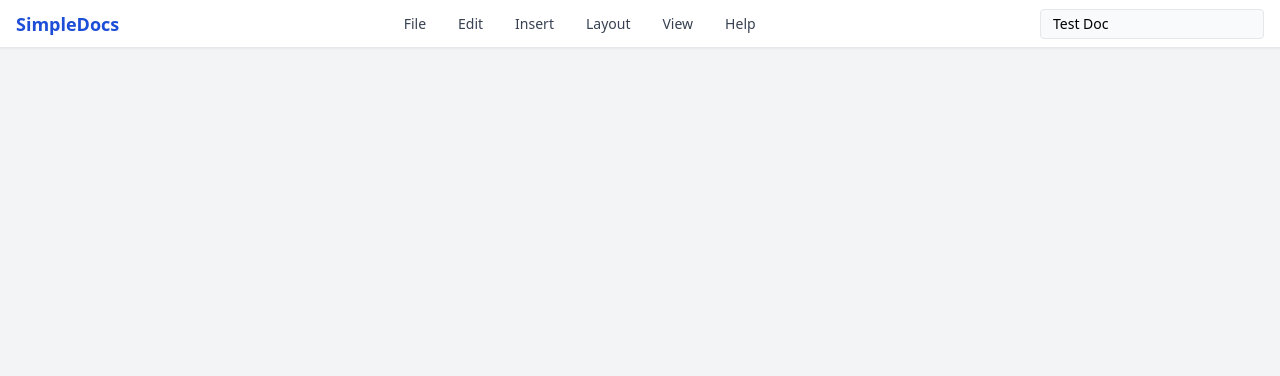
Navbar — menu close behavior › File menu › closes after clicking New
Step 1. Click the button "File" → (415, 24), box [396,10,434,38]
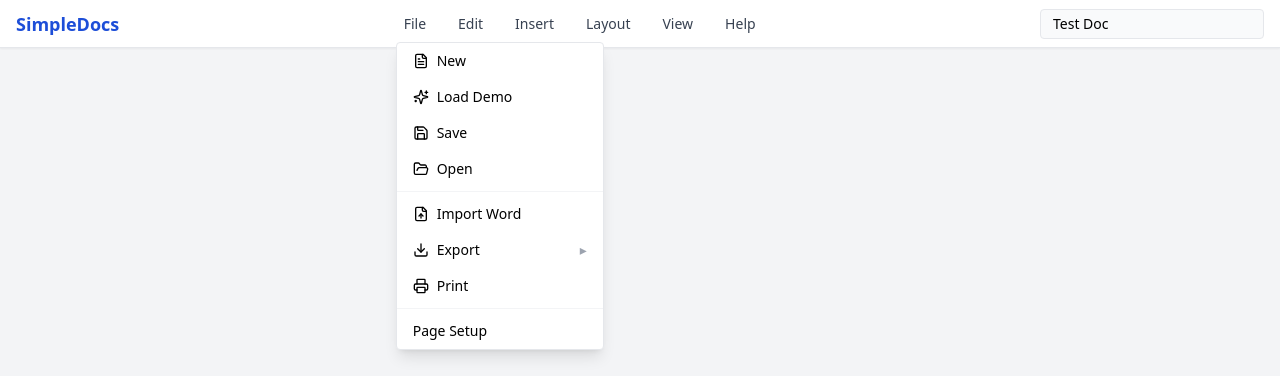
Expected: the button "New" is shown
Step 2. Click the button "New" → (500, 60), box [397,42,603,78]
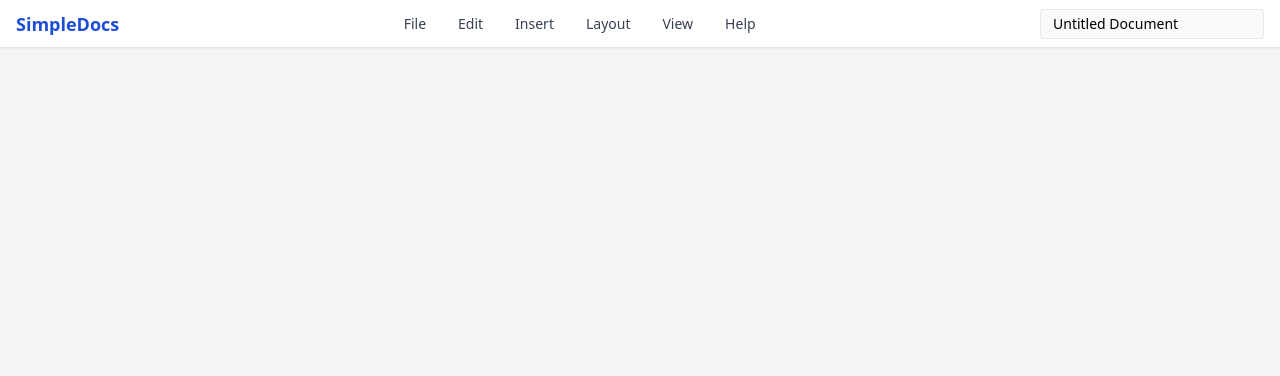
Expected: the button "New" is gone
